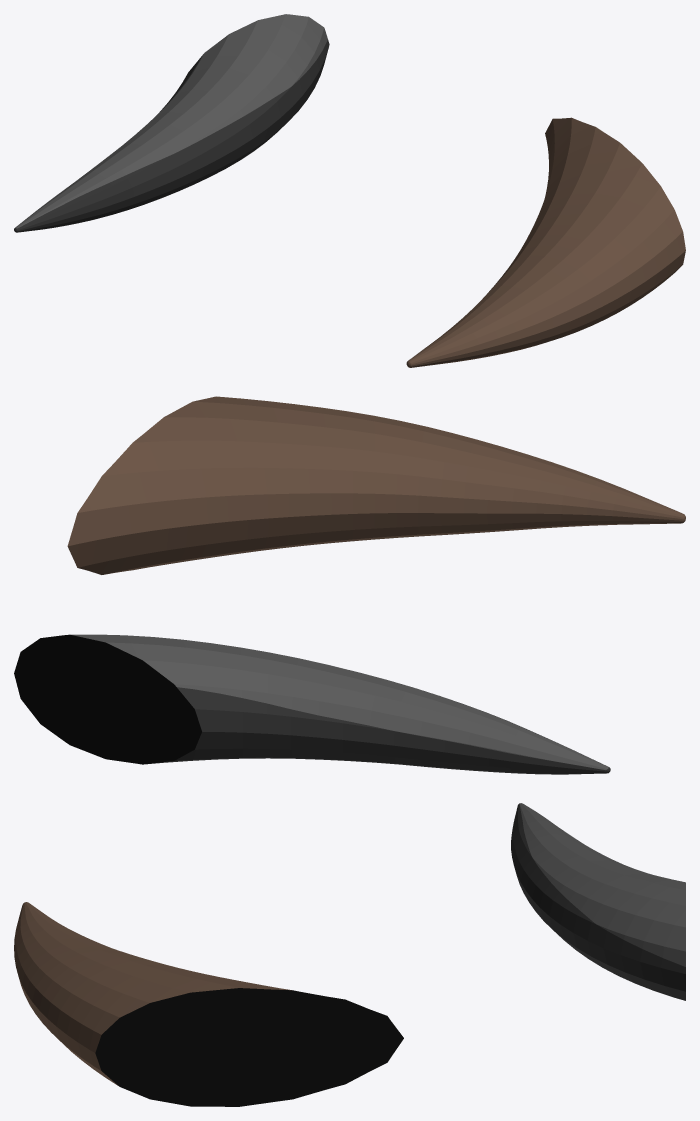
File: tusk_boss_130.glb
3 views of the same model, one above another, from view 1: azimuth 30°, elevation 25°; view 2: azimuth 150°, elevation 25°; view 3: azimuth 270°, elevation 25° (orthographic). The views are drawn at different scales.
Parts seen in each view (by area): view 1: tusk_boss_130; view 2: tusk_boss_130; view 3: tusk_boss_130.
Part boxes in pixels (x1,y1,x2,y2): tusk_boss_130: [14, 14, 685, 367]; tusk_boss_130: [14, 396, 685, 774]; tusk_boss_130: [14, 803, 685, 1106].
Size of the model in its own units: 20.5 by 4.94 by 22.82.
